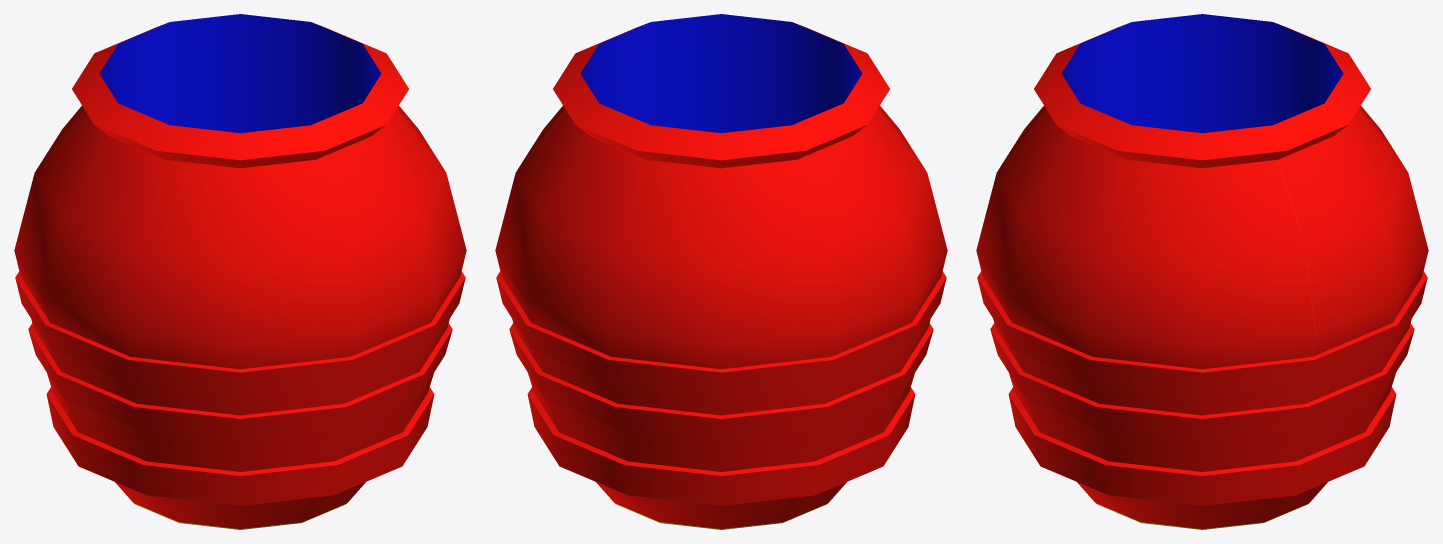
Rendered from Pot3.fbx.
The picture shows the model from 3 angles, left to right: view 1: azimuth 30°, elevation 25°; view 2: azimuth 150°, elevation 25°; view 3: azimuth 270°, elevation 25°; orthographic projection.
Visible parts, largest first — view 1: TallPot; view 2: TallPot; view 3: TallPot.
Part boxes in pixels (bbox=[...]): TallPot: bbox=[14, 14, 466, 529]; TallPot: bbox=[495, 14, 947, 529]; TallPot: bbox=[976, 14, 1428, 529].
Bounding box in the file's own units: 29.21 × 28.83 × 29.21.
Materials: 1 (1 with a texture image).
